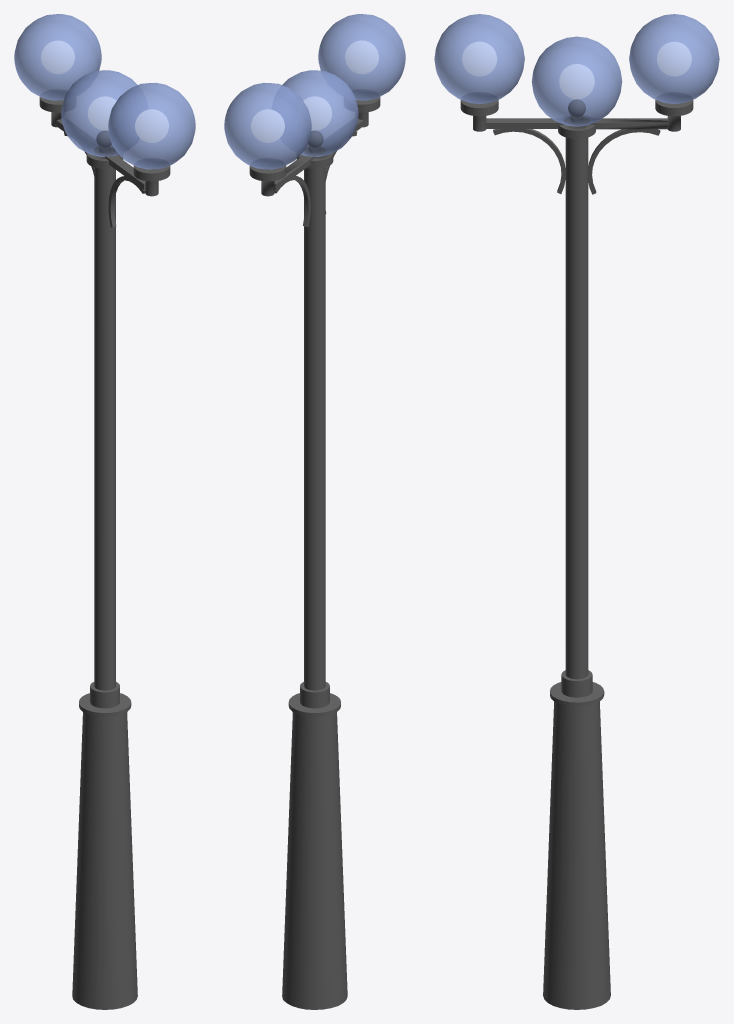
3 views of the same model, side by side, from view 1: azimuth 30°, elevation 25°; view 2: azimuth 150°, elevation 25°; view 3: azimuth 270°, elevation 25° (orthographic). The views are drawn at different scales.
Visible parts, largest first — view 1: Object_9_2, Object_8_3, Object_8_2, Object_8_1, Object_9_4, Object_10_1, Object_10_3, Object_10_2; view 2: Object_9_2, Object_8_2, Object_8_3, Object_8_1, Object_9_4, Object_10_1, Object_10_3, Object_10_2; view 3: Object_9_2, Object_8_1, Object_8_2, Object_8_3, Object_9_4, Object_10_2, Object_10_1, Object_10_3.
Part boxes in pixels (x1,y1,x2,y2): Object_9_2: [72, 167, 137, 1009]; Object_8_3: [108, 82, 195, 169]; Object_8_2: [14, 14, 101, 100]; Object_8_1: [61, 70, 137, 156]; Object_9_4: [39, 97, 170, 196]; Object_10_1: [135, 109, 168, 142]; Object_10_3: [41, 41, 74, 73]; Object_10_2: [88, 96, 116, 130]; Object_9_2: [282, 167, 347, 1009]; Object_8_2: [224, 82, 311, 169]; Object_8_3: [318, 14, 405, 100]; Object_8_1: [282, 70, 358, 156]; Object_9_4: [249, 97, 380, 196]; Object_10_1: [345, 40, 378, 73]; Object_10_3: [251, 109, 284, 142]; Object_10_2: [303, 96, 331, 130]; Object_9_2: [543, 137, 610, 1009]; Object_8_1: [531, 36, 622, 126]; Object_8_2: [629, 14, 719, 104]; Object_8_3: [434, 14, 524, 104]; Object_9_4: [460, 100, 693, 131]; Object_10_2: [559, 64, 594, 98]; Object_10_1: [462, 42, 496, 76]; Object_10_3: [657, 42, 691, 76].
Size of the model in its own units: 0.4044 by 4.81 by 1.27.
